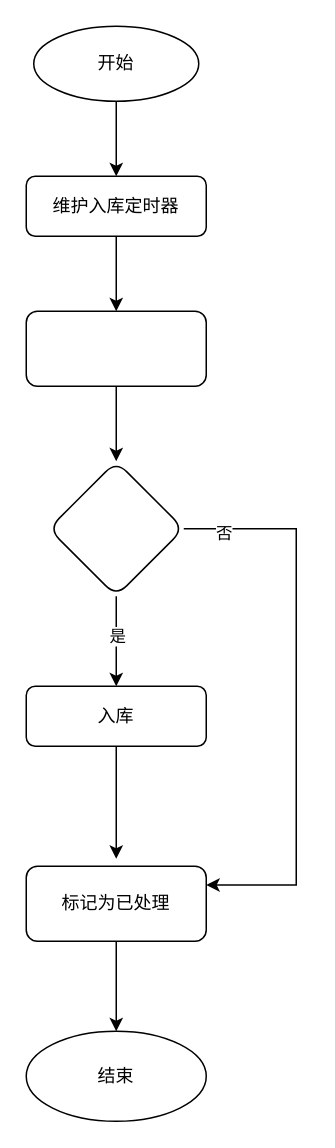
The diagram is 335 pixels wide and 1148 high, and some of its shapes have lost their labels. Each missing label, with the centre of its shape:
"判断商品是否存在采购价目表中" belongs at (115,528).
"扫描申请单中经过采购价目表且未处理的数据" belongs at (115,348).
